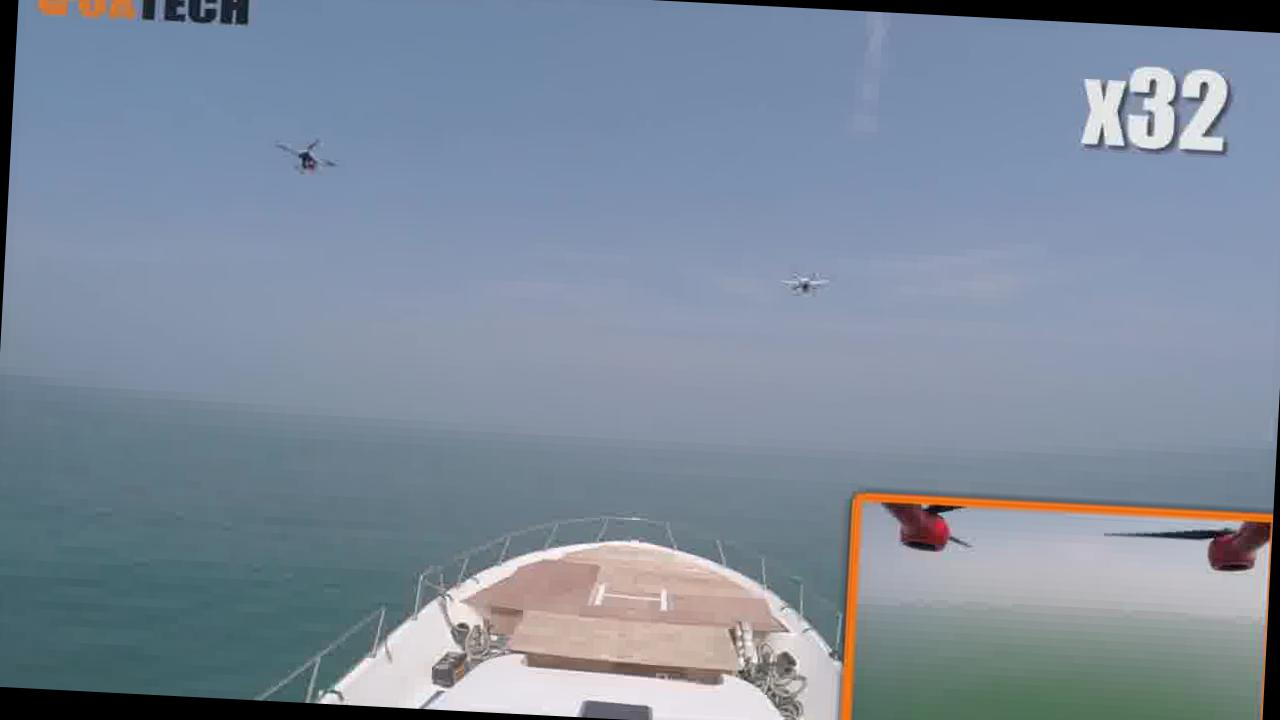drone: (252, 126, 366, 192), (769, 266, 837, 307)
